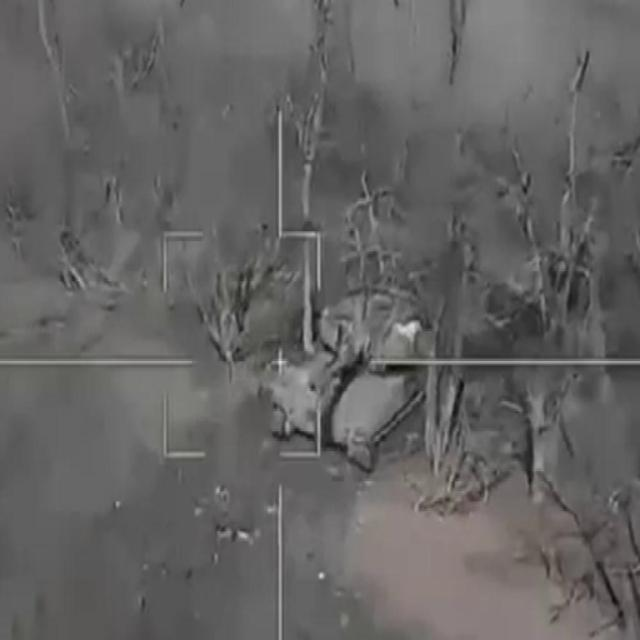ART: (263, 284, 442, 464)
